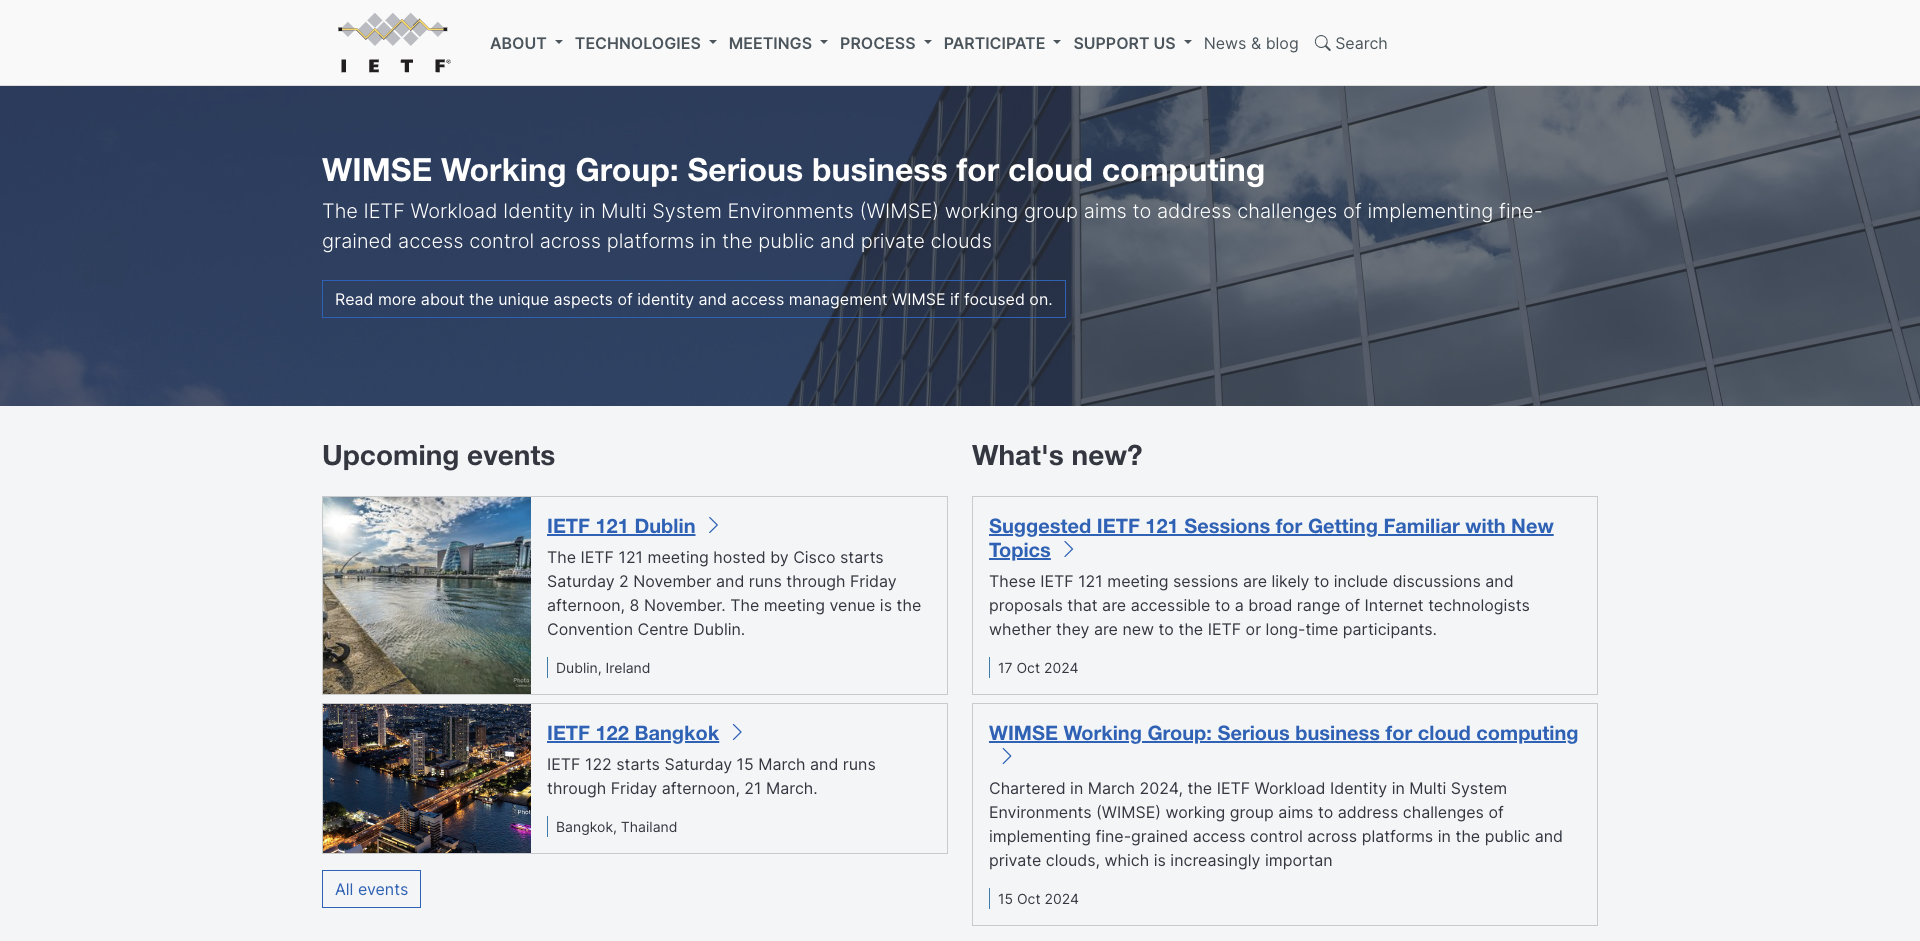button: (322, 281, 1065, 319), (567, 22, 721, 71), (936, 22, 1065, 71), (1065, 22, 1195, 71), (721, 22, 833, 71), (833, 22, 936, 71), (1195, 22, 1307, 62), (482, 22, 567, 71), (322, 870, 421, 908), (1307, 22, 1396, 62)
dropdown: (567, 22, 721, 62), (936, 22, 1065, 62), (1065, 22, 1195, 62), (721, 22, 833, 62), (833, 22, 936, 62), (482, 22, 567, 62)
link: (989, 720, 1578, 768), (989, 513, 1554, 561), (328, 5, 459, 80), (547, 720, 747, 744), (547, 513, 724, 537)
